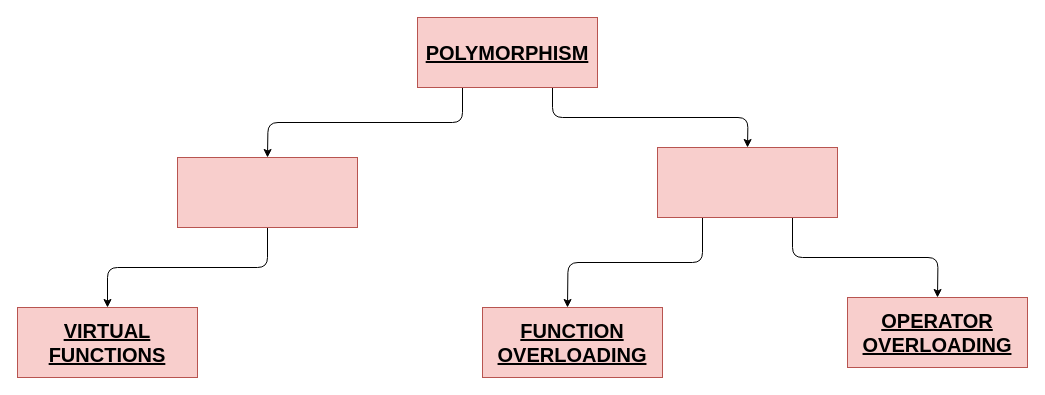
This 1045x395 diagram has some shape labels left out. The shapes that lost their labels are listed below. From the top down, each one's centre as x and y in pixels, then its label:
At (267,192): "RUN TIME POLYMORPHISM".
At (747,182): "COMPILE TIME POLYMORPHISM".
